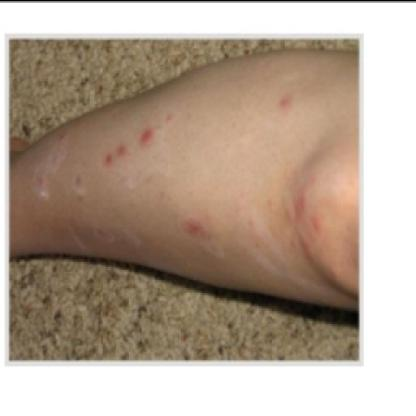Bed Bug: (294, 171, 327, 263), (174, 209, 218, 246), (98, 135, 132, 170), (278, 82, 297, 121), (138, 122, 158, 152)
